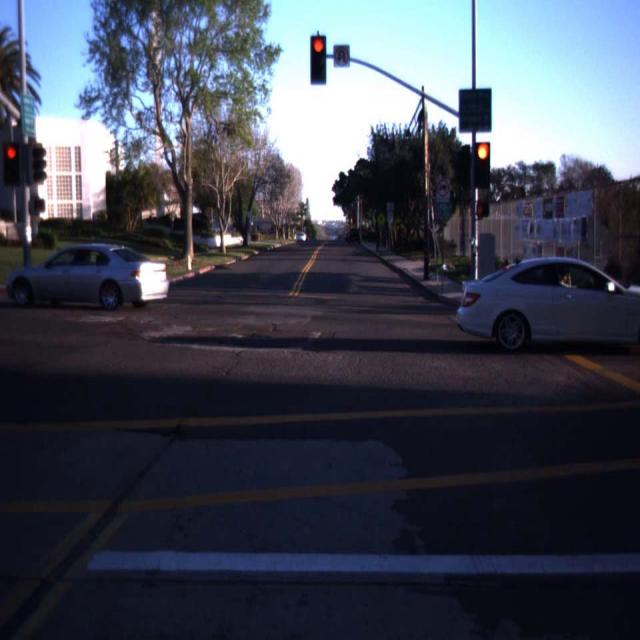kirmizi: (310, 35, 327, 85), (473, 142, 491, 186)
